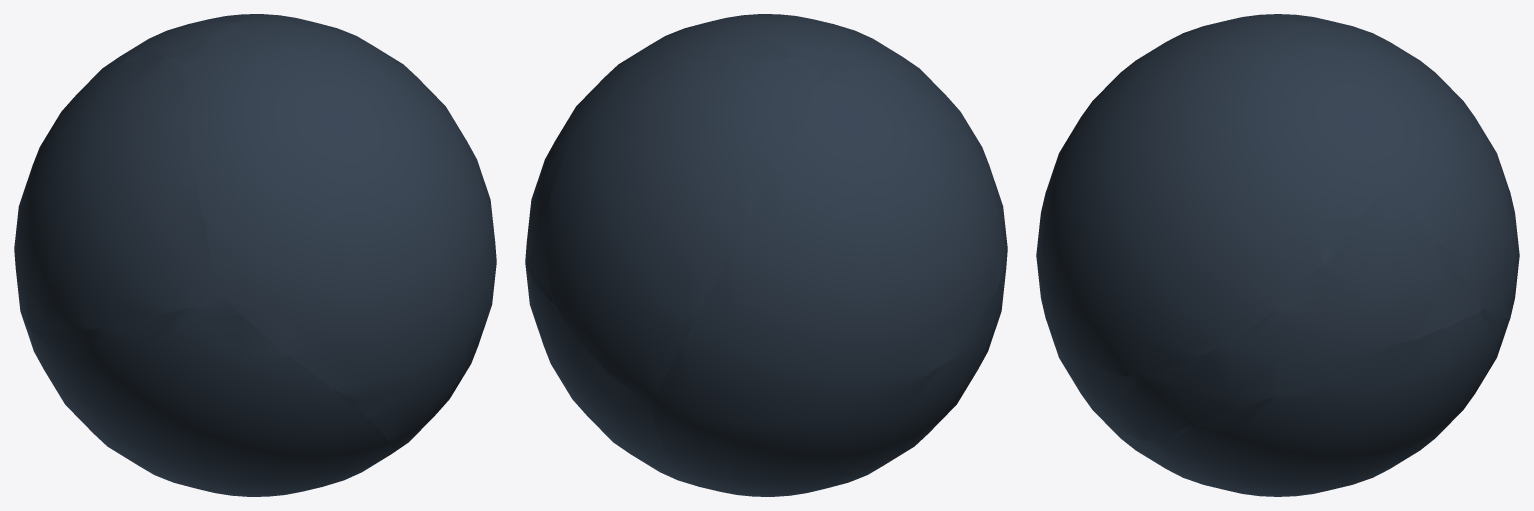
The picture shows the model from 3 angles, left to right: view 1: azimuth 30°, elevation 25°; view 2: azimuth 150°, elevation 25°; view 3: azimuth 270°, elevation 25°; orthographic projection.
Parts seen in each view (by area): view 1: Sphere001_Part_4, Sphere001_Part_1, Sphere001_Part_2, Sphere001_Part_3, Sphere001_Part_6; view 2: Sphere001_Part_2, Sphere001_Part_6, Sphere001_Part_1, Sphere001_Part_4, Sphere001_Part_5, Sphere001_Part_3; view 3: Sphere001_Part_4, Sphere001_Part_3, Sphere001_Part_5, Sphere001_Part_6.
Part boxes in pixels (x1,y1,x2,y2): Sphere001_Part_4: [183, 15, 496, 398]; Sphere001_Part_1: [24, 297, 395, 496]; Sphere001_Part_2: [14, 57, 221, 331]; Sphere001_Part_3: [351, 298, 492, 450]; Sphere001_Part_6: [105, 14, 272, 66]; Sphere001_Part_2: [651, 67, 1005, 423]; Sphere001_Part_6: [546, 55, 831, 404]; Sphere001_Part_1: [650, 222, 1007, 496]; Sphere001_Part_4: [555, 14, 960, 140]; Sphere001_Part_5: [525, 263, 680, 481]; Sphere001_Part_3: [525, 123, 582, 305]; Sphere001_Part_4: [1036, 14, 1383, 376]; Sphere001_Part_3: [1053, 180, 1483, 444]; Sphere001_Part_5: [1128, 309, 1509, 496]; Sphere001_Part_6: [1285, 16, 1519, 319].
Bounding box in the file's own units: 0.3095 × 0.3095 × 0.3095.
